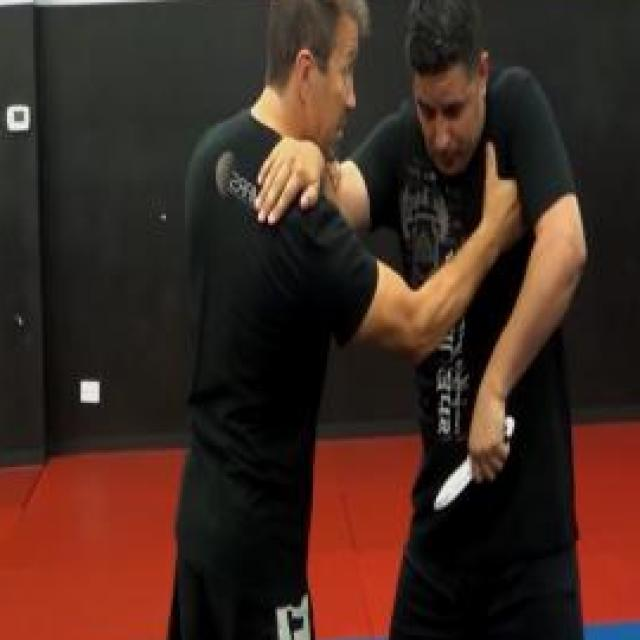knife: (428, 408, 517, 516)
